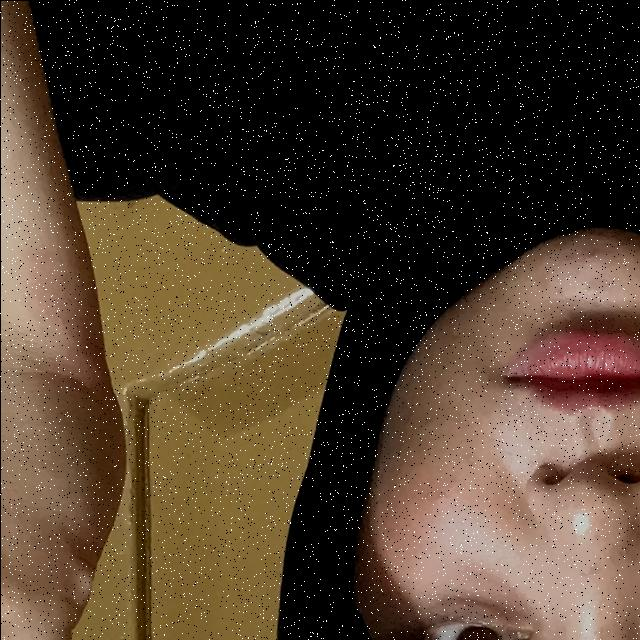kapan: (0, 124, 250, 640)
